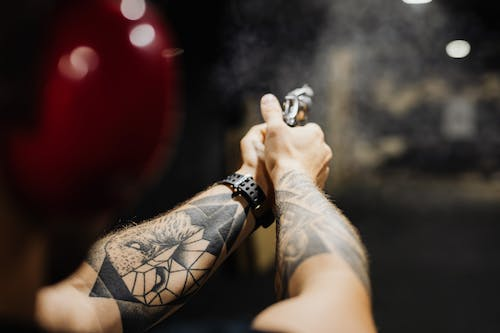gun: (281, 81, 317, 128)
